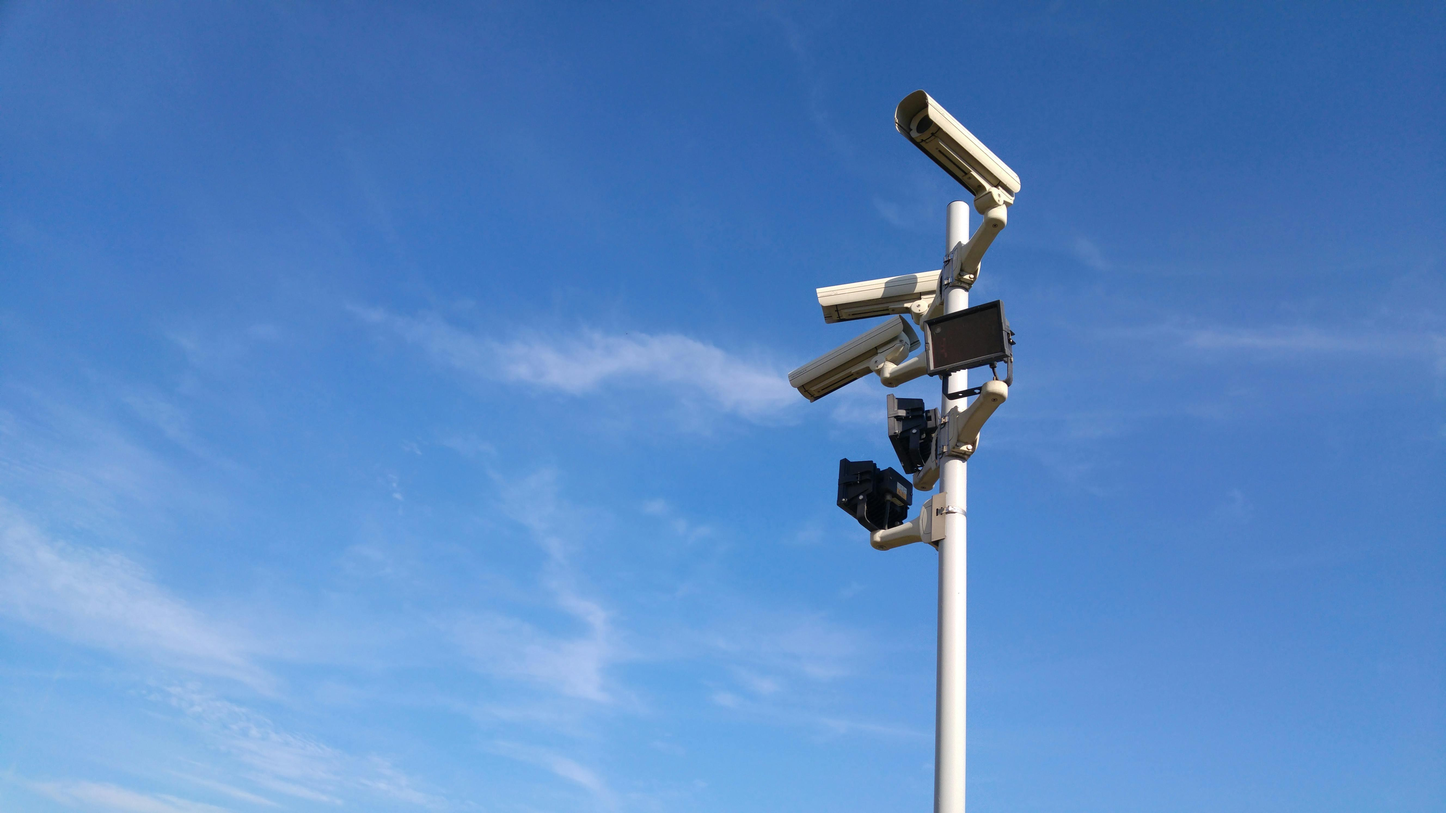camera: (678, 305, 966, 411), (874, 71, 1037, 256), (784, 250, 1040, 362)
